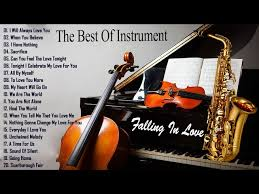Saxophone: (194, 23, 259, 171)
Violin: (141, 73, 227, 121)
